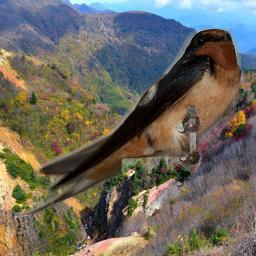Swallow: (12, 28, 241, 215)
